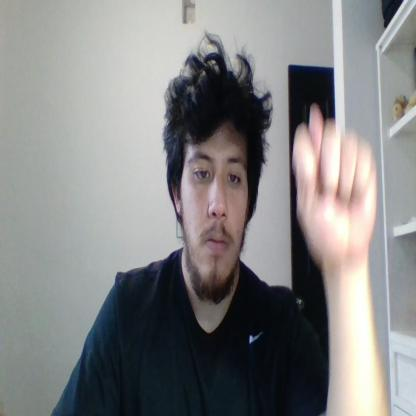T: (292, 104, 377, 260)
